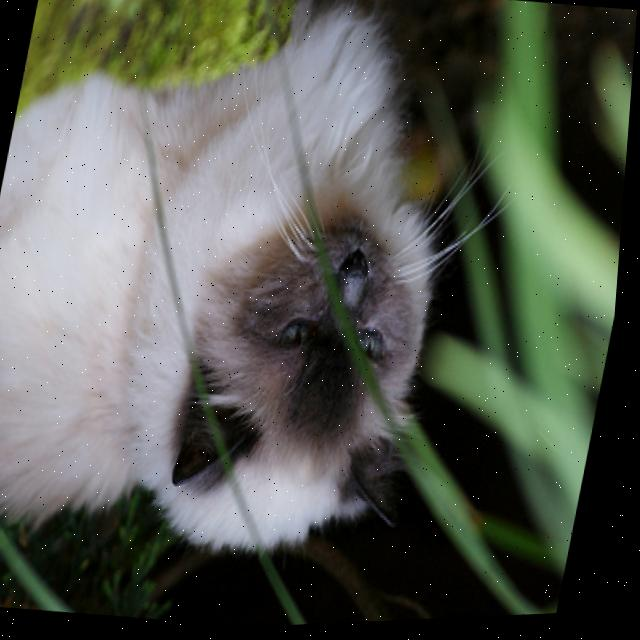Birman: (0, 0, 505, 588)
